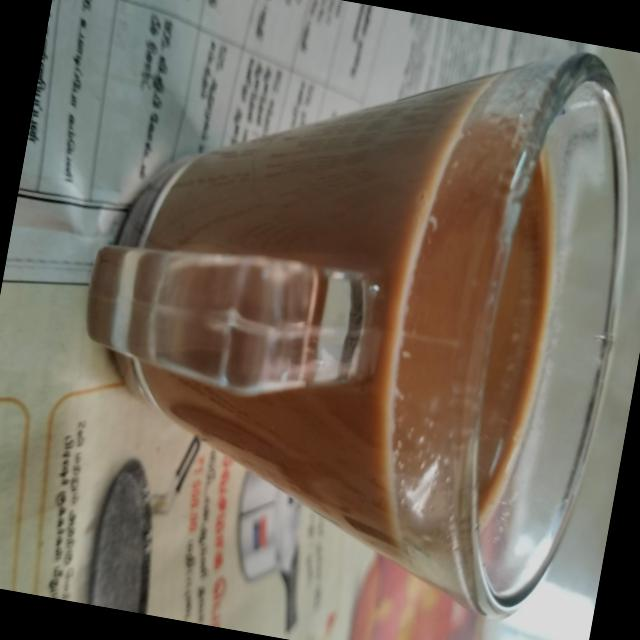glass-VX4N: (36, 0, 640, 633)
